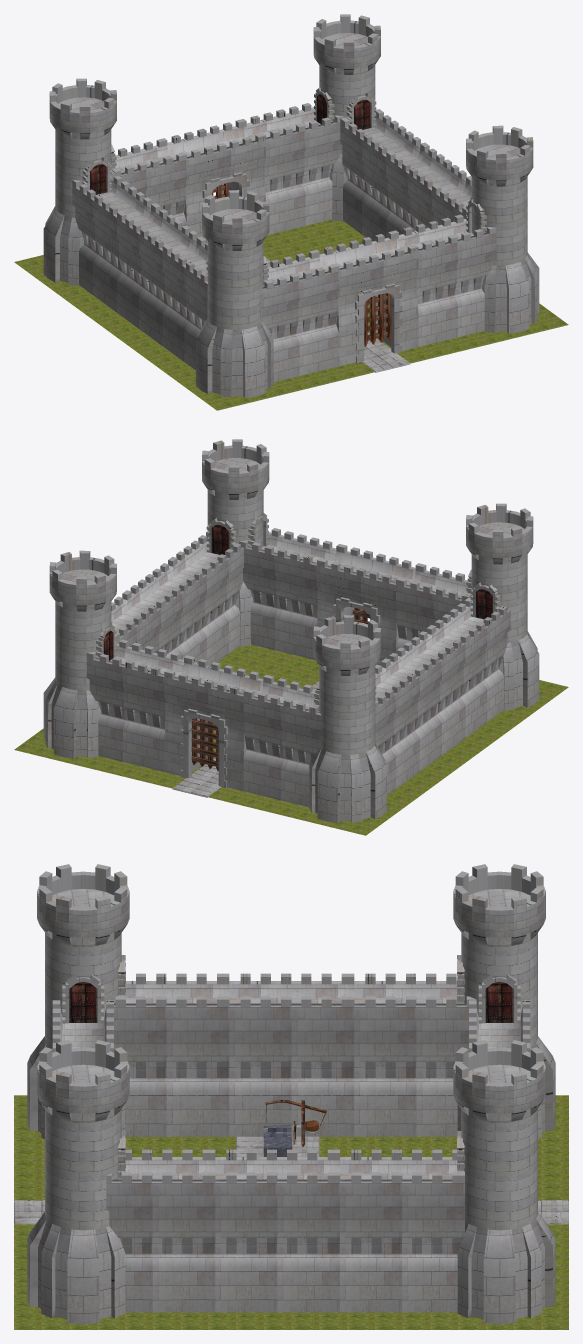
The model's file is enviromental_modeling_castle.glb.
3 views of the same model, one above another, from view 1: azimuth 30°, elevation 25°; view 2: azimuth 150°, elevation 25°; view 3: azimuth 270°, elevation 25° (orthographic). The views are drawn at different scales.
Visible parts, largest first — view 1: Castle_tower_turret1, Castle_tower_turret2, Castle_wall1, Castle_tower_turret3, Castle_wall9, Castle_wall2, Castle_Gate1, Castle_wall4, Castle_wall6, Castle_tower_turret4, Castle_wall5, Castle_Gate2 (+7 smaller); view 2: Castle_tower_turret3, Castle_tower_turret4, Castle_wall9, Castle_tower_turret1, Castle_wall1, Castle_wall10, Castle_Gate2, Castle_wall4, Castle_tower_turret2, Castle_wall3, Castle_Gate1, Castle_wall7 (+9 smaller); view 3: Castle_tower_turret4, Castle_tower_turret2, Castle_wall7, Castle_wall4, Castle_wall6, Castle_wall3, Castle_wall5, Castle_wall8, Castle_tower_turret1, Castle_tower_turret3, Castle_wall2, Castle_wall10 (+6 smaller).
Boxes of the visible parts, x1,y1,x2,y2 form: Castle_tower_turret1: [196, 190, 273, 398]; Castle_tower_turret2: [466, 125, 539, 333]; Castle_wall1: [399, 214, 496, 346]; Castle_tower_turret3: [43, 78, 116, 285]; Castle_wall9: [246, 103, 343, 234]; Castle_wall2: [261, 249, 339, 382]; Castle_Gate1: [319, 230, 418, 366]; Castle_wall4: [117, 203, 197, 345]; Castle_wall6: [340, 109, 420, 241]; Castle_tower_turret4: [313, 14, 380, 221]; Castle_wall5: [72, 170, 151, 312]; Castle_Gate2: [167, 119, 265, 239]; Castle_tower_turret3: [309, 615, 386, 823]; Castle_tower_turret4: [43, 550, 116, 758]; Castle_wall9: [86, 639, 183, 771]; Castle_tower_turret1: [466, 503, 539, 710]; Castle_wall1: [239, 528, 336, 659]; Castle_wall10: [243, 674, 321, 807]; Castle_Gate2: [164, 655, 263, 791]; Castle_wall4: [381, 631, 465, 770]; Castle_tower_turret2: [202, 439, 269, 646]; Castle_wall3: [426, 598, 510, 737]; Castle_Gate1: [317, 544, 415, 665]; Castle_wall7: [122, 563, 206, 663]; Castle_tower_turret4: [453, 1040, 555, 1324]; Castle_tower_turret2: [27, 1040, 129, 1324]; Castle_wall7: [215, 1149, 339, 1312]; Castle_wall4: [229, 973, 354, 1136]; Castle_wall6: [340, 1149, 464, 1312]; Castle_wall3: [114, 973, 229, 1136]; Castle_wall5: [354, 973, 476, 1136]; Castle_wall8: [106, 1149, 215, 1312]; Castle_tower_turret1: [27, 864, 129, 1139]; Castle_tower_turret3: [453, 864, 555, 1139]; Castle_wall2: [52, 1000, 113, 1052]; Castle_wall10: [469, 1000, 530, 1052].
Size of the model in its own units: 0.4 by 0.1943 by 0.4.
Materials: 8 (8 with a texture image).
